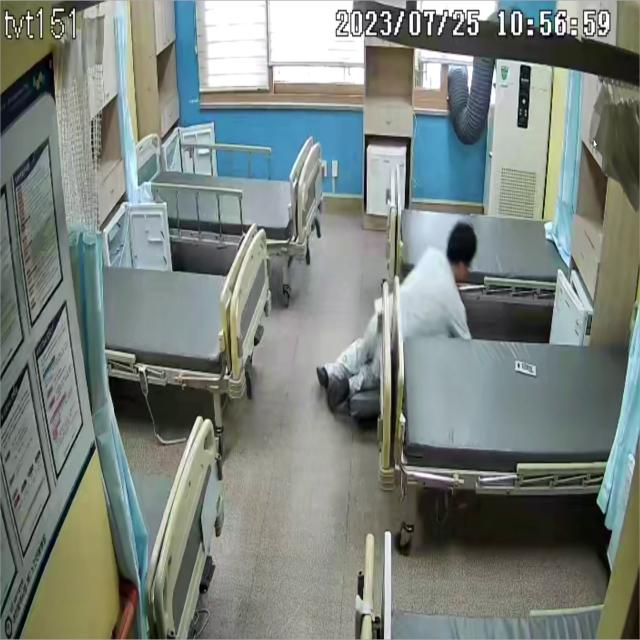bed: (377, 275, 629, 498), (387, 154, 573, 310), (107, 227, 270, 393), (152, 142, 320, 257)
fall: (320, 223, 476, 405)
patient: (318, 222, 478, 416)
